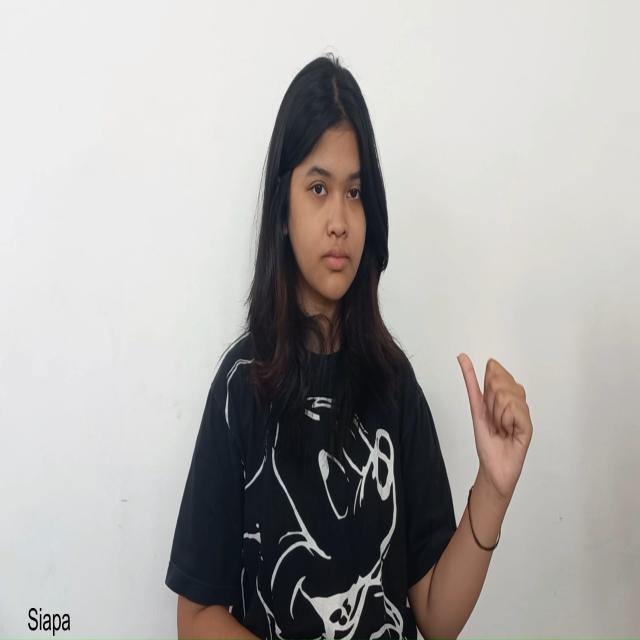Siapa -BISINDO-: (455, 346, 534, 524)
